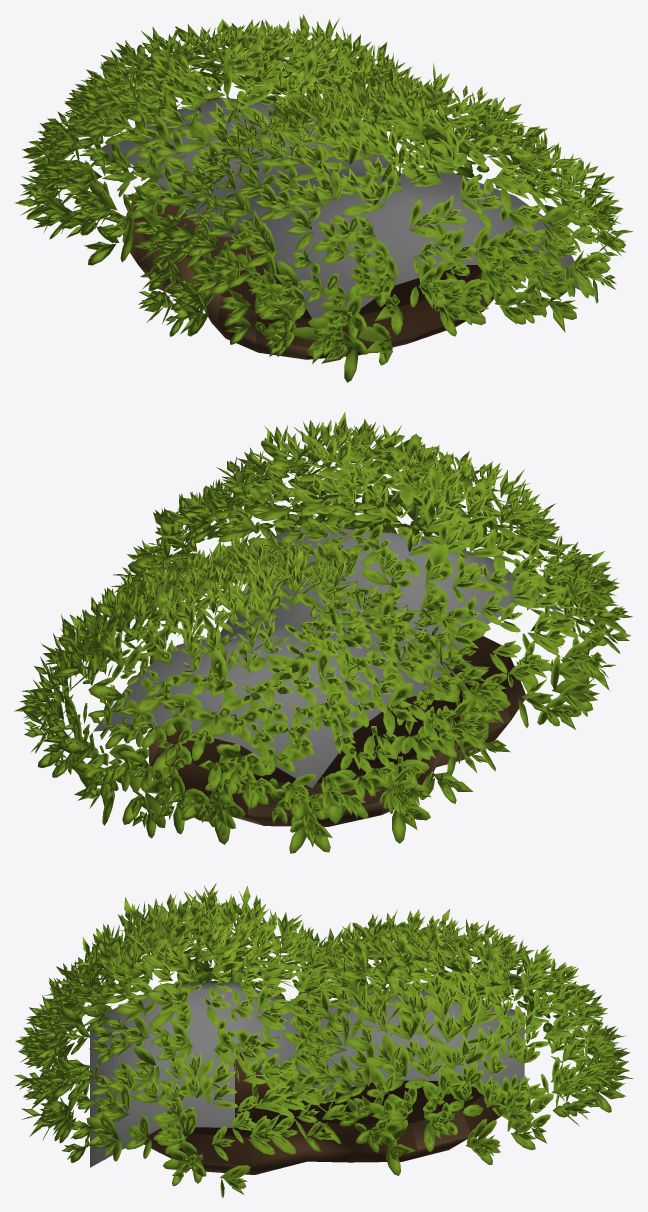
File: moss-tuft-3.glb
3 renders of one model, top to bottom at view 1: azimuth 30°, elevation 25°; view 2: azimuth 150°, elevation 25°; view 3: azimuth 270°, elevation 25°, orthographic. The views are drawn at different scales.
Visible parts, largest first — view 1: lod0; view 2: lod0; view 3: lod0.
Part boxes in pixels (<box>): lod0: <box>15,14,632,382</box>; lod0: <box>14,412,632,853</box>; lod0: <box>14,883,633,1197</box>.
Size of what is drawn, in the model's own units: 0.7919 by 0.3845 by 1.
